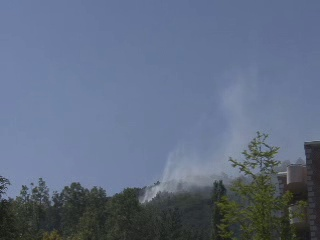smoke: (201, 76, 256, 183), (136, 143, 207, 203)
